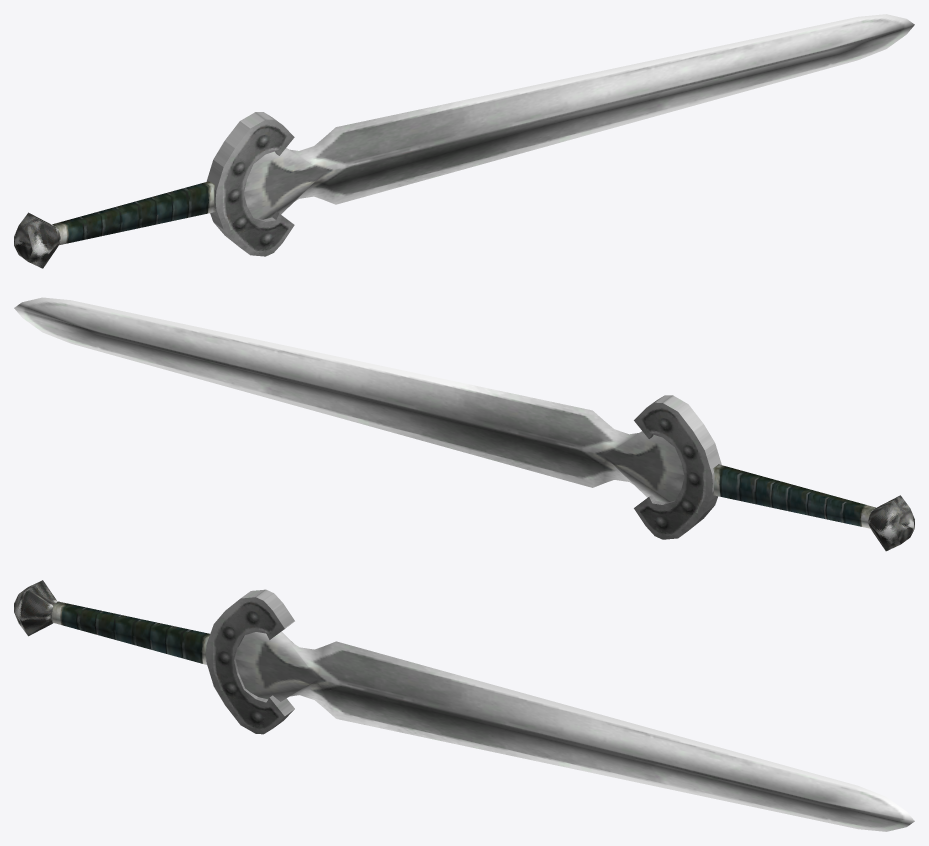
The picture shows the model from 3 angles, top to bottom: view 1: azimuth 30°, elevation 25°; view 2: azimuth 150°, elevation 25°; view 3: azimuth 330°, elevation 25°; orthographic projection.
Parts seen in each view (by area): view 1: it10022; view 2: it10022; view 3: it10022.
Part boxes in pixels (left/top/right/bottom): it10022: left=14, top=14, right=914, bottom=268; it10022: left=14, top=297, right=914, bottom=551; it10022: left=14, top=580, right=914, bottom=831.
Size of the model in its own units: 3.76 by 0.5458 by 0.2103.
4 materials, 4 textured.
